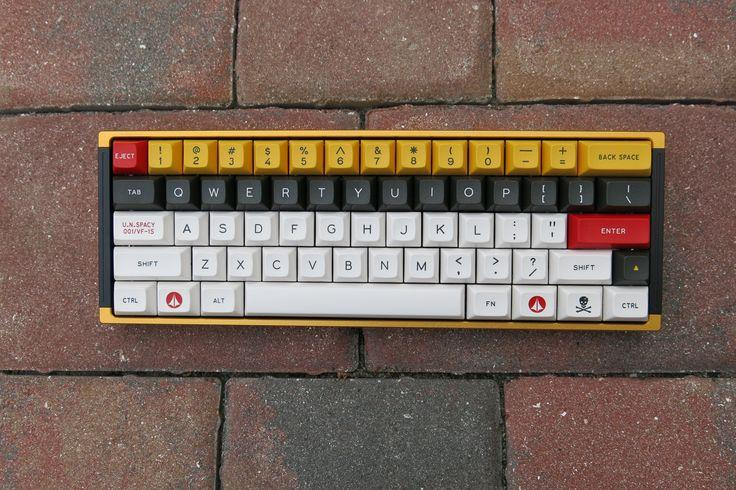keyboard: (97, 128, 665, 328)
